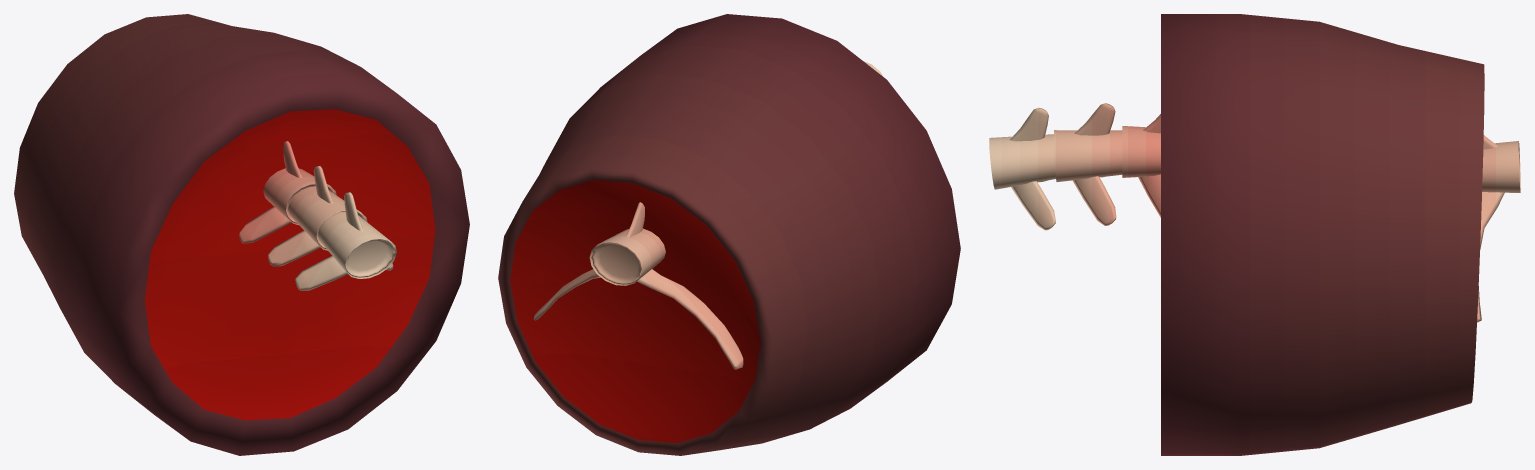
File: Dog_Heart_Source_2_Adjusted.fbx
The picture shows the model from 3 angles, left to right: view 1: azimuth 30°, elevation 25°; view 2: azimuth 150°, elevation 25°; view 3: azimuth 270°, elevation 25°; orthographic projection. The views are drawn at different scales.
Parts seen in each view (by area): view 1: Dog_Heart_Source_2_Adjusted; view 2: Dog_Heart_Source_2_Adjusted; view 3: Dog_Heart_Source_2_Adjusted.
Part boxes in pixels (x1=…): Dog_Heart_Source_2_Adjusted: x1=14, y1=14, x2=469, y2=455; Dog_Heart_Source_2_Adjusted: x1=498, y1=14, x2=960, y2=455; Dog_Heart_Source_2_Adjusted: x1=989, y1=14, x2=1520, y2=455.
Bounding box in the file's own units: 36.02 × 35.97 × 43.
